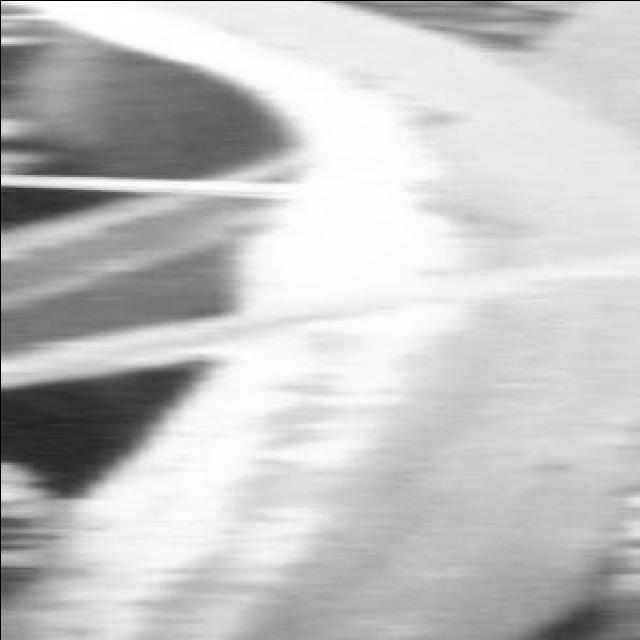Bacterial_Leaf_Blight: (146, 47, 625, 640)
